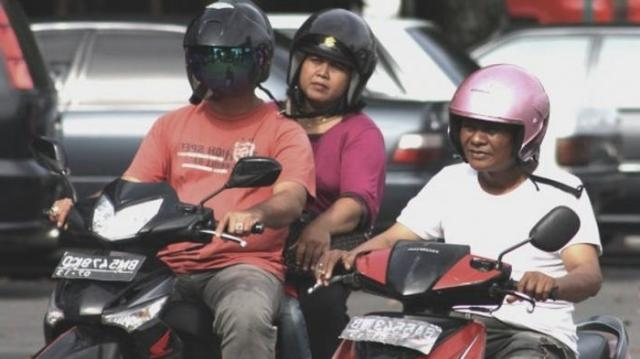helm: (444, 64, 554, 177), (284, 7, 380, 116), (184, 2, 274, 107)
motor: (25, 135, 342, 359), (309, 202, 628, 359)
